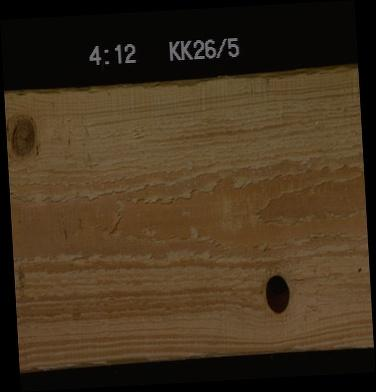sound_knot: (6, 111, 37, 161)
wave: (3, 72, 358, 96)
